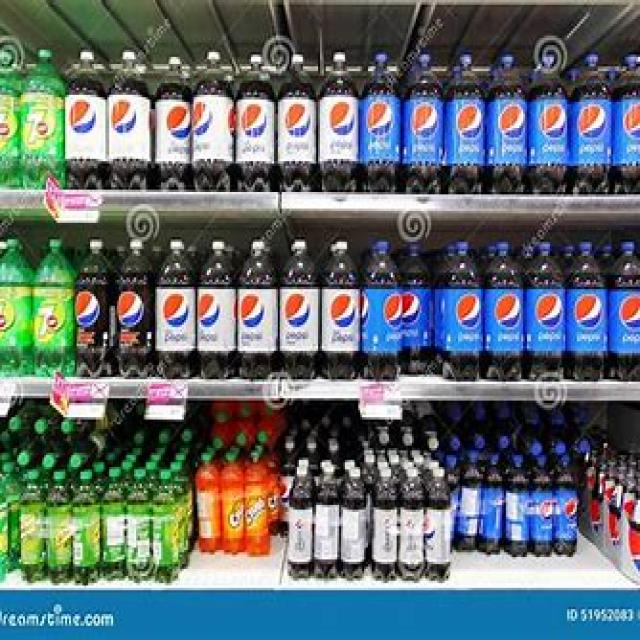7up: (20, 48, 66, 189), (33, 230, 73, 370), (3, 241, 34, 371)
pepsi: (441, 33, 492, 189), (353, 39, 403, 185), (568, 225, 614, 376), (442, 241, 486, 371), (528, 52, 571, 180), (578, 42, 616, 186), (497, 42, 531, 200), (363, 247, 407, 364), (414, 40, 446, 200), (493, 238, 530, 367), (536, 242, 569, 362)
